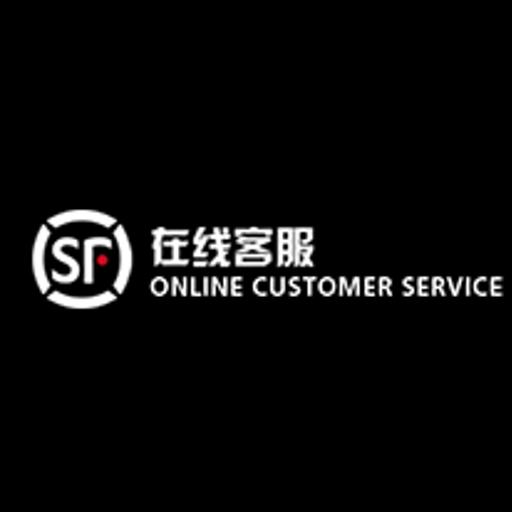SF Express Co: (0, 190, 511, 321)
